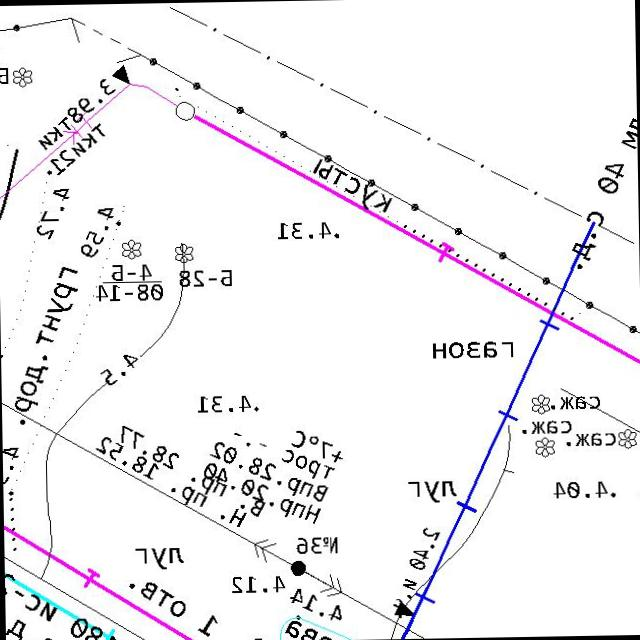bushes: (120, 238, 142, 260), (534, 435, 555, 458), (617, 427, 637, 450), (12, 66, 32, 88), (174, 243, 194, 264), (530, 393, 550, 414)
mark: (110, 63, 130, 86), (393, 600, 415, 617)
well: (174, 100, 196, 122)
